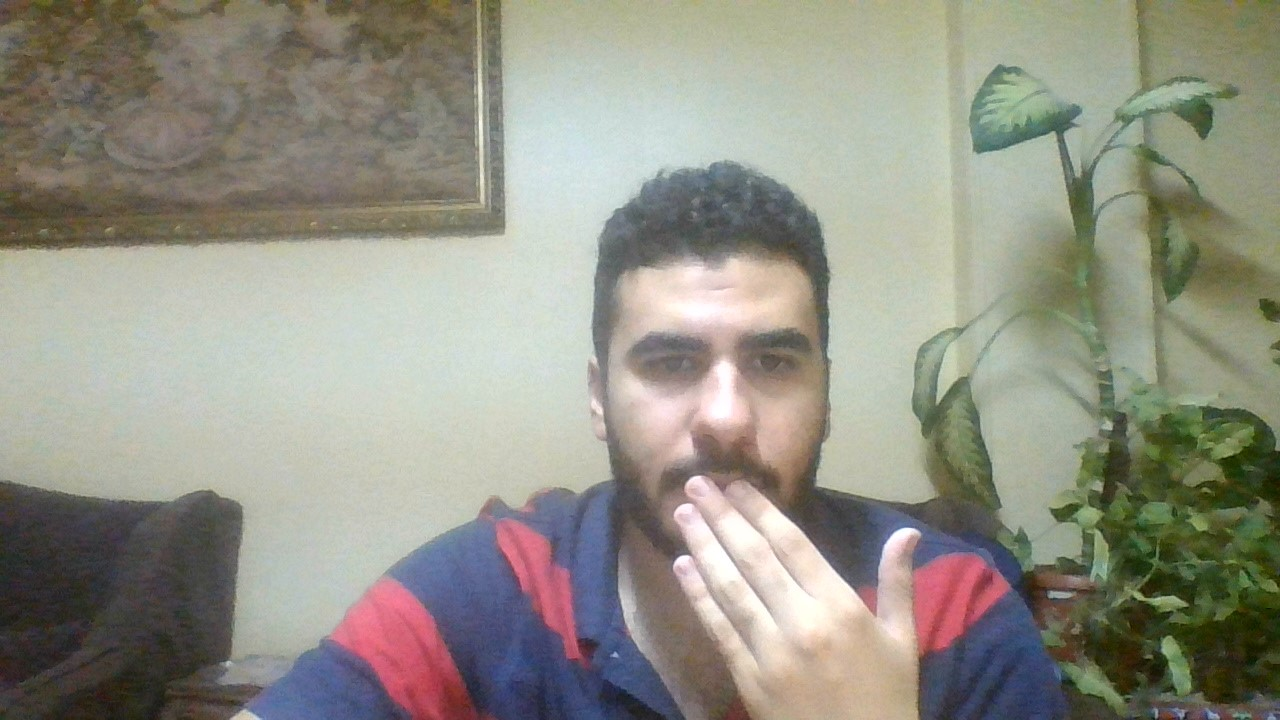thankyou: (644, 470, 938, 720)
